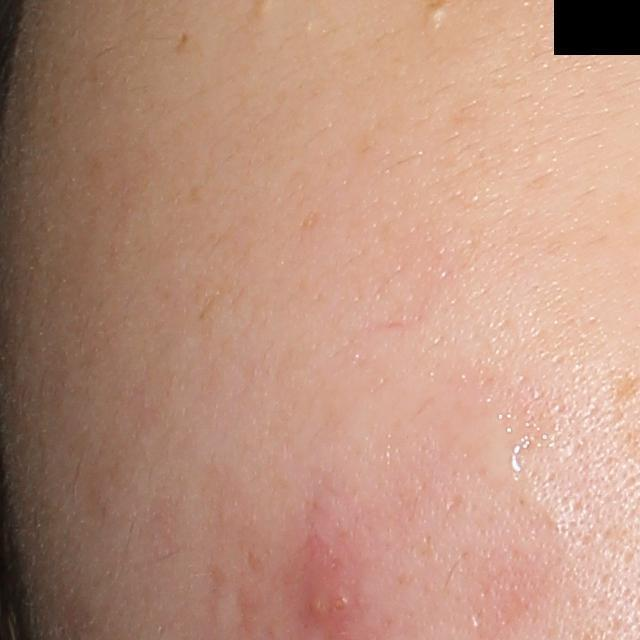melasma: (173, 30, 192, 57)
other: (418, 5, 451, 29)
